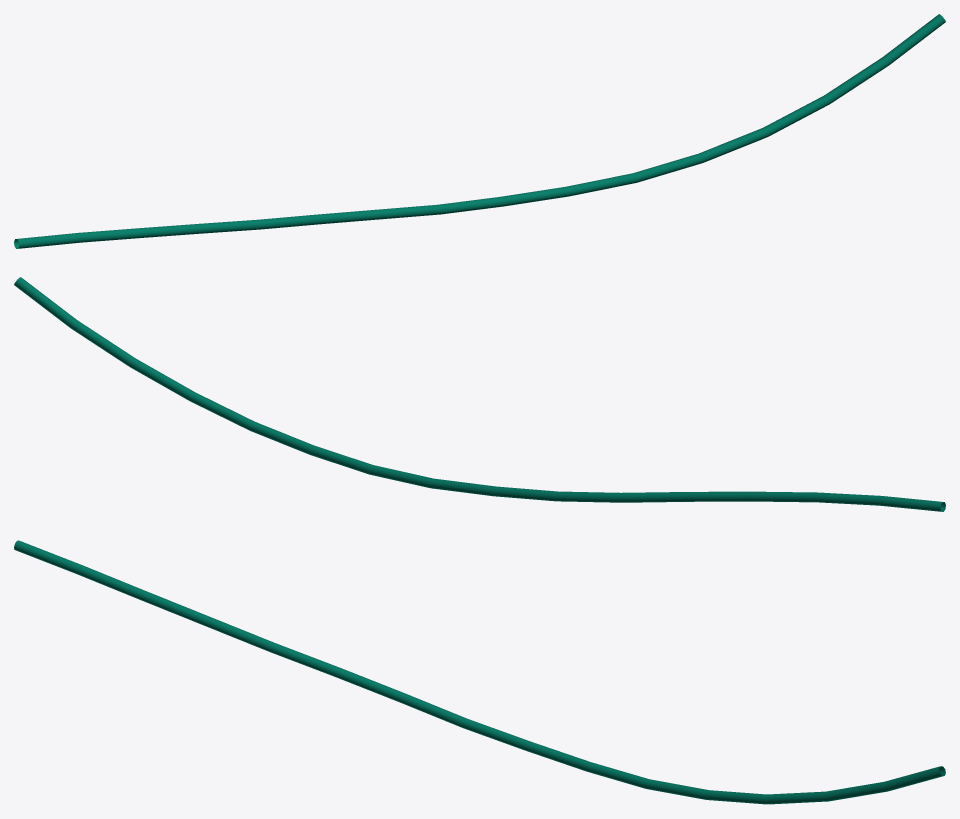
The model's file is SM_Cable_03.fbx.
3 renders of one model, top to bottom at view 1: azimuth 30°, elevation 25°; view 2: azimuth 150°, elevation 25°; view 3: azimuth 330°, elevation 25°, orthographic.
Parts seen in each view (by area): view 1: SM_Cable_03; view 2: SM_Cable_03; view 3: SM_Cable_03.
Part boxes in pixels (x1,y1,x2,y2): SM_Cable_03: [14, 14, 945, 248]; SM_Cable_03: [14, 277, 945, 511]; SM_Cable_03: [14, 540, 945, 804].
Size of the model in its own units: 6.12 by 0.6414 by 0.2075.
